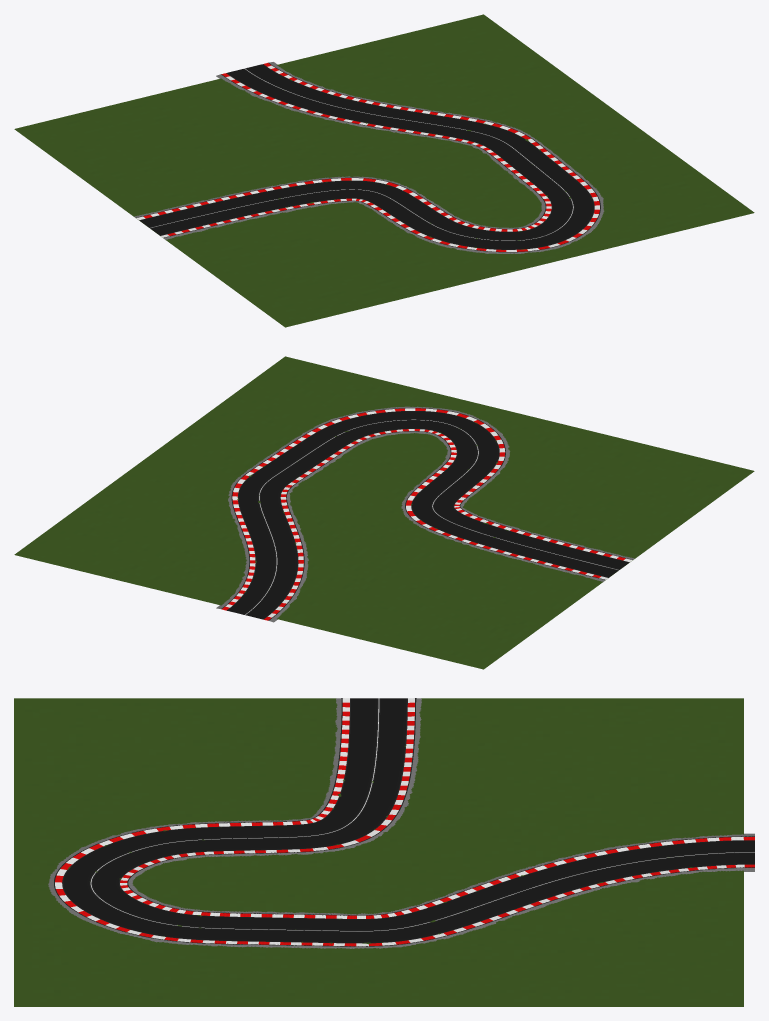
File: S0.Group.202.export.A1L1H0cornRdead.glb
The picture shows the model from 3 angles, top to bottom: view 1: azimuth 30°, elevation 25°; view 2: azimuth 150°, elevation 25°; view 3: azimuth 270°, elevation 25°; orthographic projection. The views are drawn at different scales.
Parts seen in each view (by area): view 1: Square, Grid; view 2: Square, Grid; view 3: Square, Grid.
Boxes of the visible parts, x1=… form: Square: x1=14, y1=14, x2=754, y2=327; Grid: x1=134, y1=62, x2=604, y2=253; Square: x1=14, y1=356, x2=754, y2=669; Grid: x1=216, y1=406, x2=634, y2=622; Square: x1=14, y1=698, x2=743, y2=1006; Grid: x1=48, y1=698, x2=754, y2=948.
Size of the model in its own units: 202 by 0.2265 by 205.
